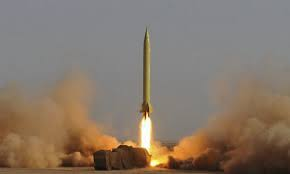ten_lua: (133, 18, 158, 131)
